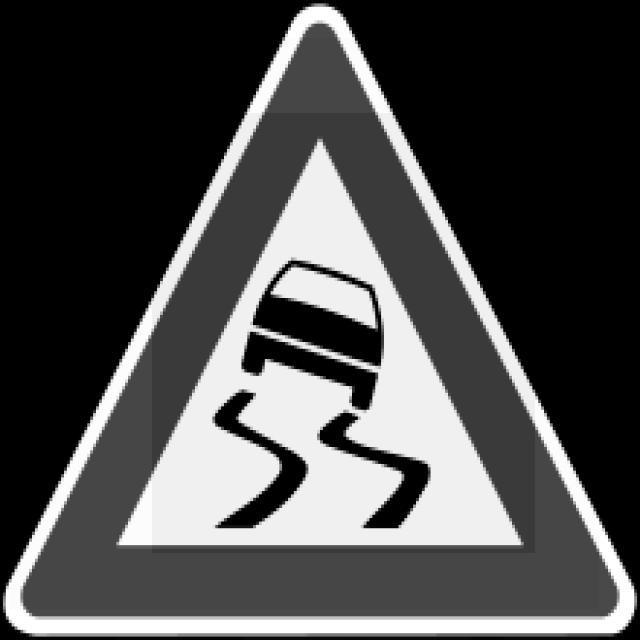slippery road: (23, 21, 620, 622)
